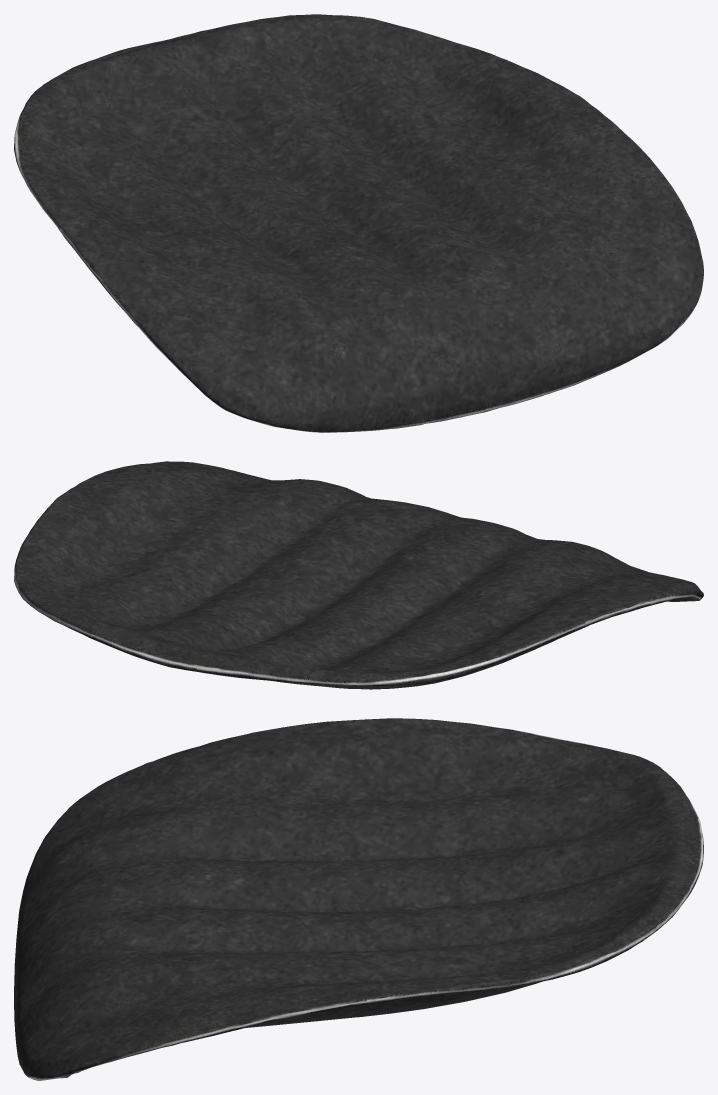
The model's file is 10 - PYNTEN - 兒童書桌椅椅墊, 深灰色, 33x32 公分 IKEA 線上購物.glb.
3 renders of one model, top to bottom at view 1: azimuth 30°, elevation 25°; view 2: azimuth 150°, elevation 25°; view 3: azimuth 270°, elevation 25°, orthographic. The views are drawn at different scales.
Visible parts, largest first — view 1: model; view 2: model; view 3: model.
Part boxes in pixels (x1,y1,x2,y2): model: (14, 14, 703, 432); model: (14, 461, 703, 689); model: (14, 718, 703, 1080).
Size of the model in its own units: 0.3198 by 0.0845 by 0.3244.
1 material, 1 textured.
